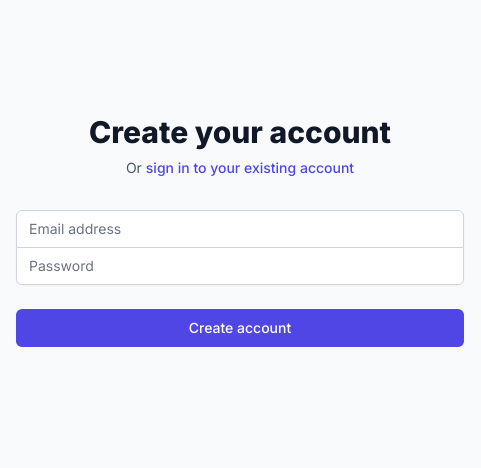
Test: SignUpPage › submits form with valid data
Type "test@example.com" into the field with placeholder "Email address" at point(240, 228), box [16,210,464,248]
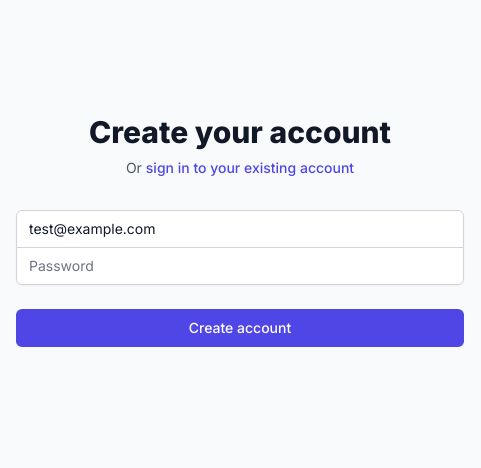
Type "password123" into the password field with placeholder "Password" at point(240, 266), box [16,246,464,284]
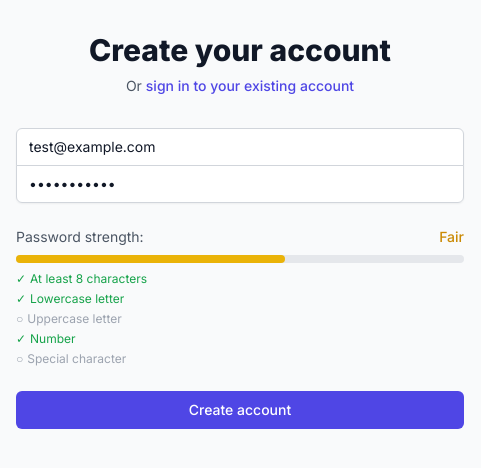
Click the button "Create account" at point(240, 410), box [16,390,464,428]
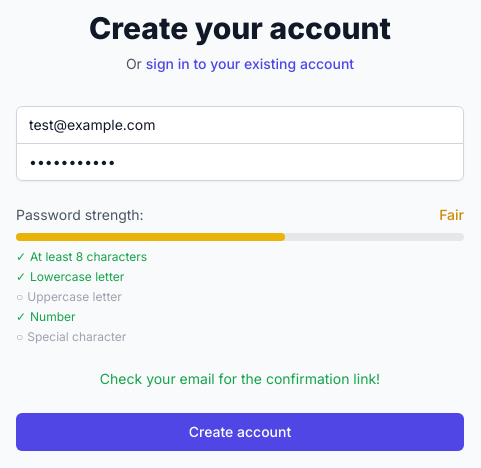
Expected: the text "Check your email for the confirmation link!" is shown, [100,370,380,386]
